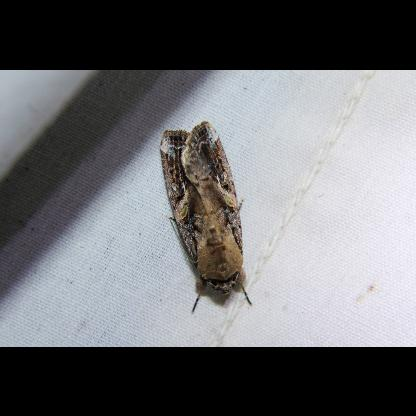Fall Armyworm Moth: (158, 119, 254, 318)
